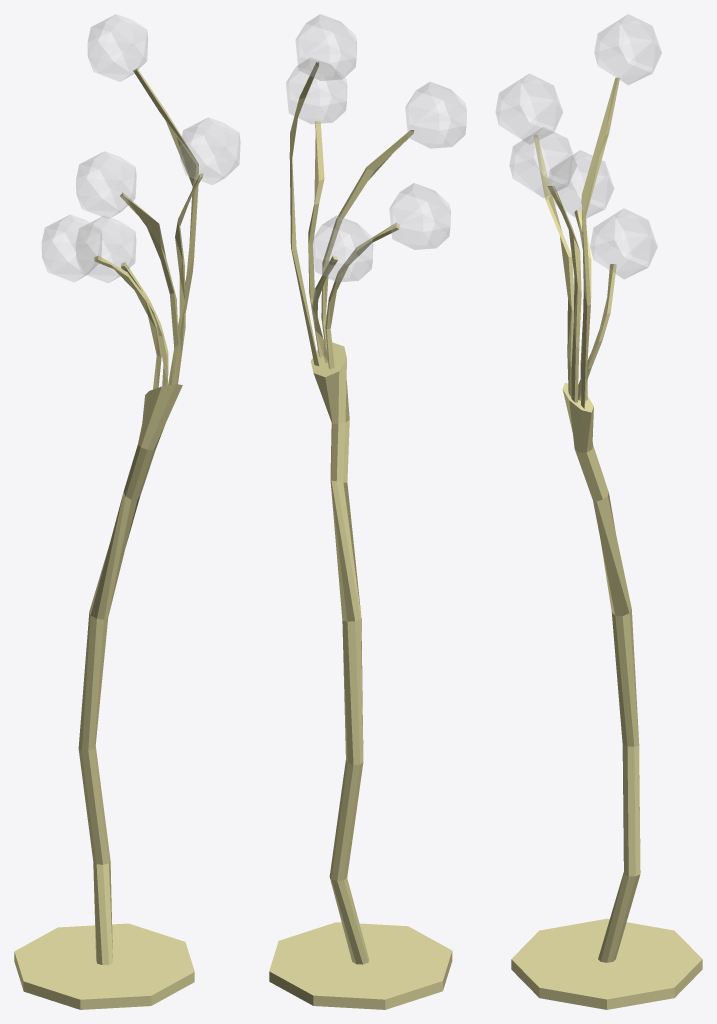
The model's file is lampe_pied.fbx.
3 views of the same model, side by side, from view 1: azimuth 30°, elevation 25°; view 2: azimuth 150°, elevation 25°; view 3: azimuth 270°, elevation 25° (orthographic). The views are drawn at different scales.
Visible parts, largest first — view 1: lampe pied; view 2: lampe pied; view 3: lampe pied.
Part boxes in pixels (left/top/right/bottom): lampe pied: left=14, top=14, right=240, bottom=1009; lampe pied: left=269, top=14, right=466, bottom=1009; lampe pied: left=495, top=14, right=702, bottom=1009.
Bounding box in the file's own units: 35.21 × 170 × 33.21.
